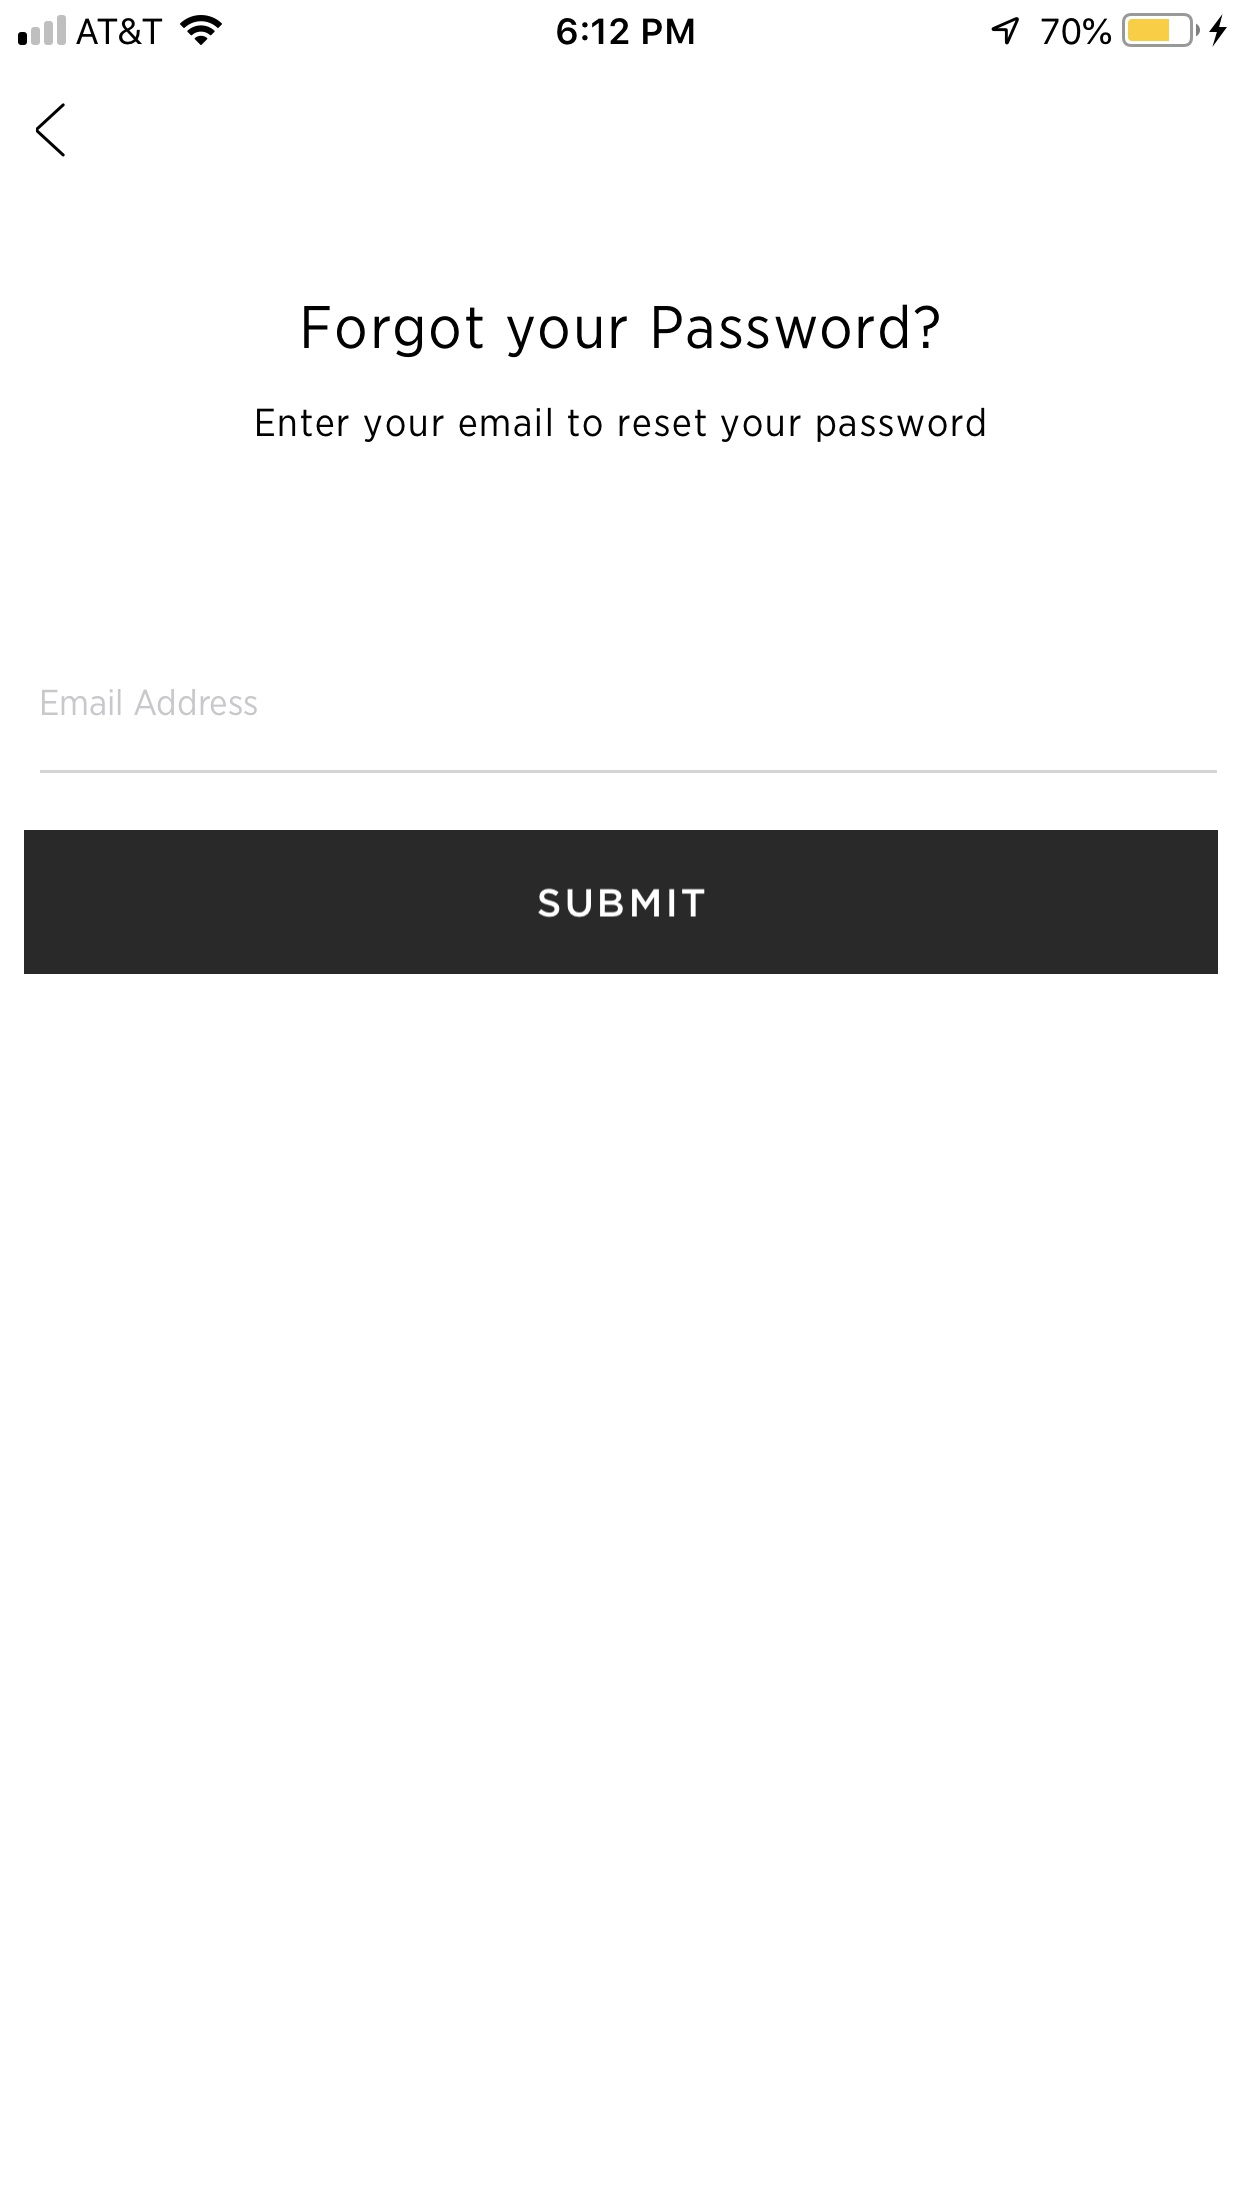EditText: (39, 688, 1218, 773)
Icon: (36, 105, 67, 159)
Text: (303, 303, 940, 359), (256, 408, 986, 444), (42, 688, 259, 717)
TextButton: (24, 830, 1219, 975)
UpperTaskBar: (2, 2, 1242, 49)
